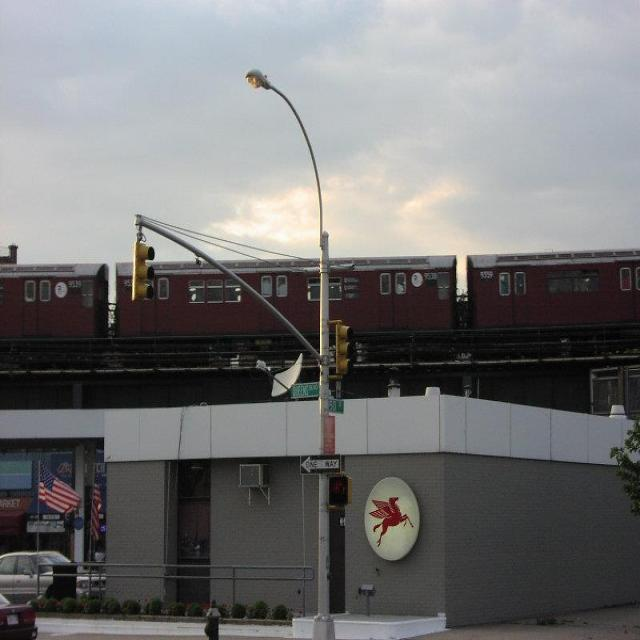Electric pole: (246, 68, 330, 454), (314, 475, 335, 640)
